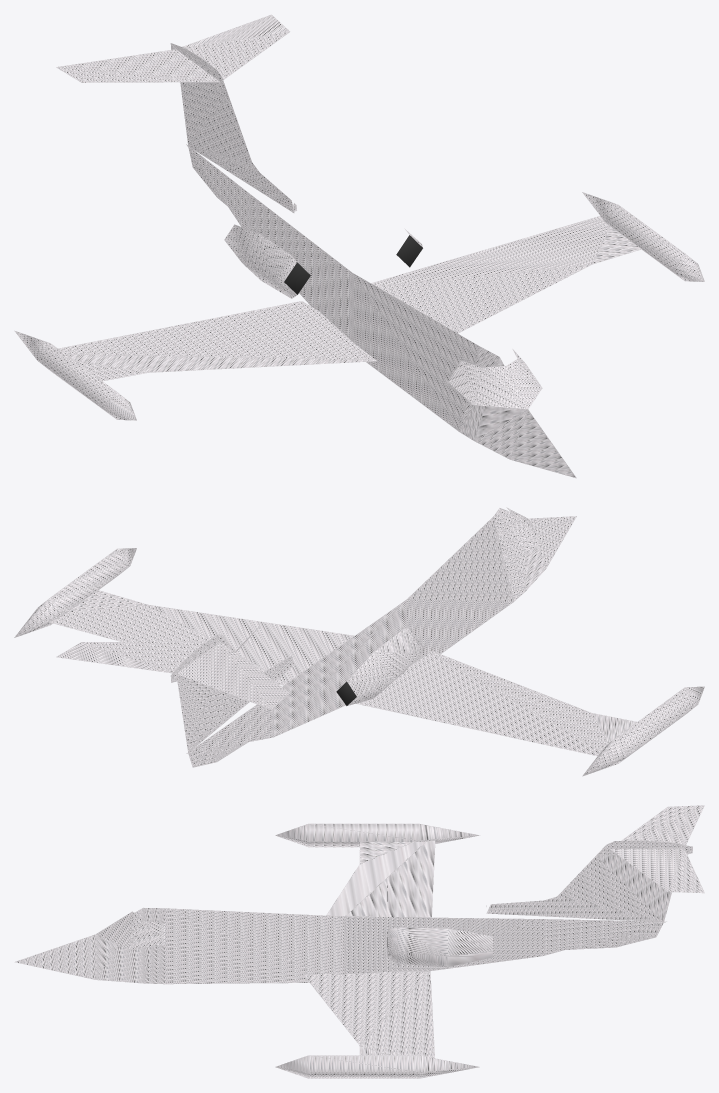
The model's file is HTAI Learjet 35 MSFS_LOD1.gltf.
3 renders of one model, top to bottom at view 1: azimuth 30°, elevation 25°; view 2: azimuth 150°, elevation 25°; view 3: azimuth 270°, elevation 25°, orthographic. The views are drawn at different scales.
Visible parts, largest first — view 1: node2, node1; view 2: node2; view 3: node2.
Boxes of the visible parts, bbox=[...] form: node2: bbox=[14, 14, 704, 478]; node1: bbox=[284, 235, 422, 294]; node2: bbox=[14, 507, 704, 776]; node2: bbox=[14, 805, 704, 1078].
Bounding box in the file's own units: 12.38 × 3.15 × 14.9.
